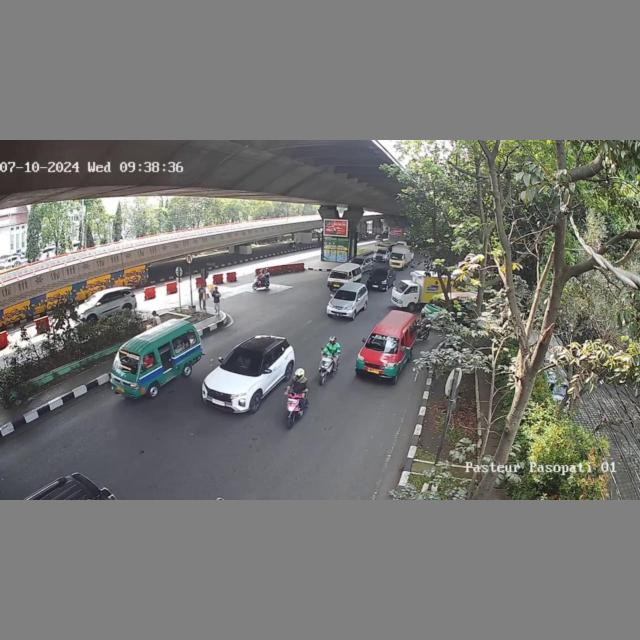windshield: (222, 348, 264, 372), (113, 348, 142, 374), (366, 331, 400, 352), (333, 290, 356, 302), (329, 270, 349, 280)
